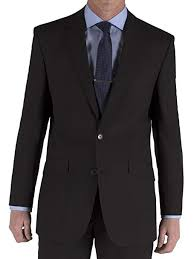F_M_suit jacket: (8, 4, 189, 251)
F_tie: (89, 22, 118, 103)
